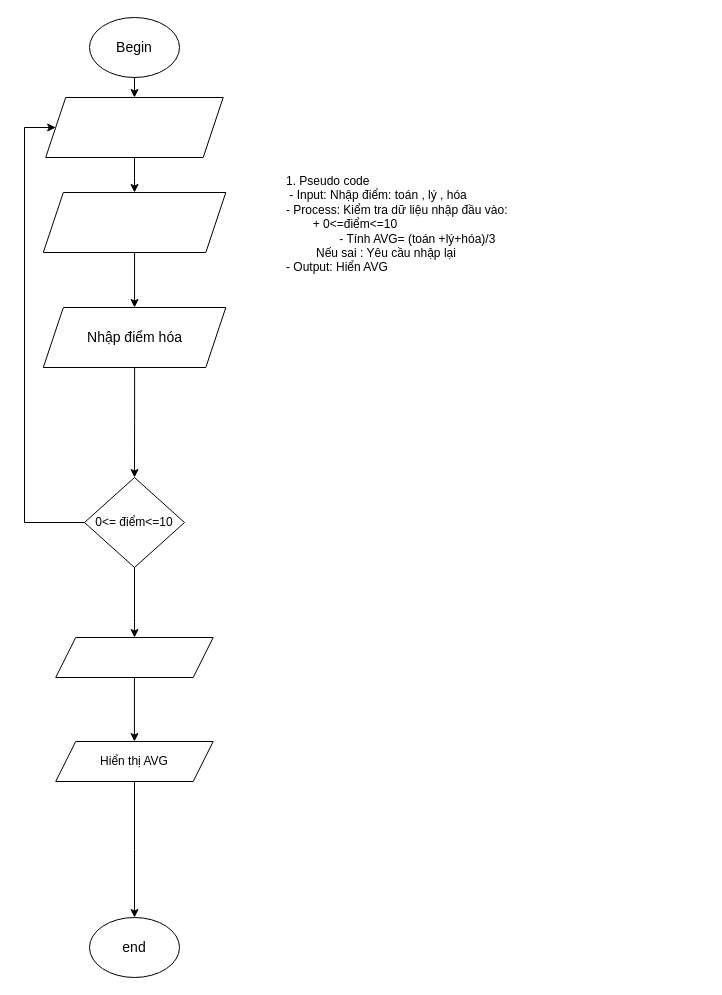
This 722x995 diagram has some shape labels left out. The centre of each missing label's shape, as x and y in pixels:
AVG= (toán+lý+hóa)/3: (134,657)
Nhập điểm lý: (134,222)
Nhập điểm toán: (134,127)
